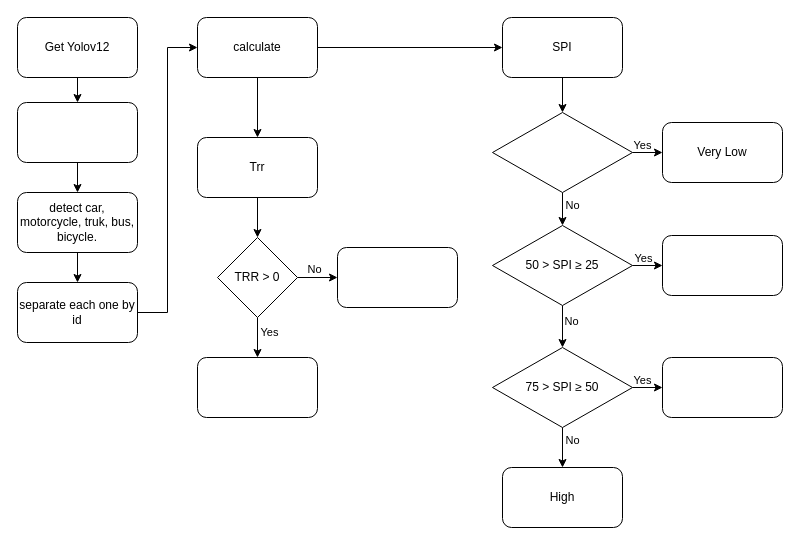
Some shapes in this 800 by 545 pixel diagram are drawn without their labels. Each missing label, with the centre of its shape:
25 > SPI: the point at 562,152
Connect camera device: the point at 77,132
Low: the point at 722,265
Moderate: the point at 722,387
moving vehicle: the point at 257,387
Stuck / no vehicle: the point at 397,277
